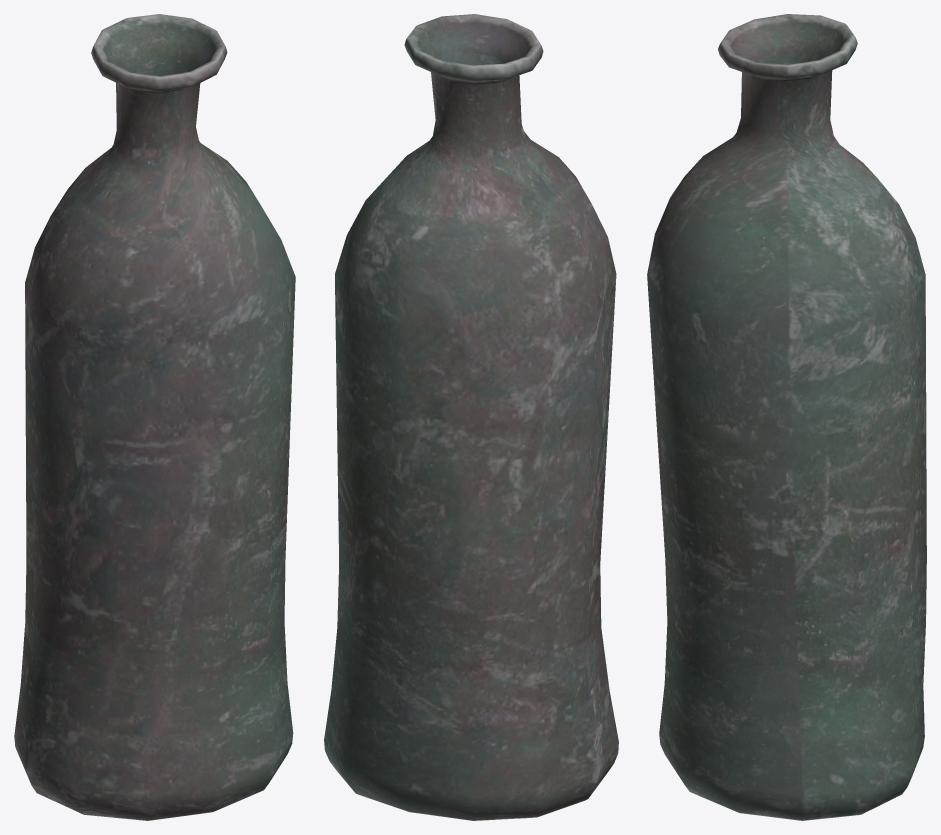
File: SM_Bottle_01.fbx
3 views of the same model, side by side, from view 1: azimuth 30°, elevation 25°; view 2: azimuth 150°, elevation 25°; view 3: azimuth 270°, elevation 25° (orthographic).
Visible parts, largest first — view 1: SM_Bottle_01_LOD0; view 2: SM_Bottle_01_LOD0; view 3: SM_Bottle_01_LOD0.
Boxes of the visible parts, x1,y1,x2,y2 form: SM_Bottle_01_LOD0: [14, 14, 295, 820]; SM_Bottle_01_LOD0: [324, 14, 618, 820]; SM_Bottle_01_LOD0: [647, 14, 926, 820].
Size of the model in its own units: 10.9 by 10.51 by 30.32.
Materials: 1 (1 with a texture image).
